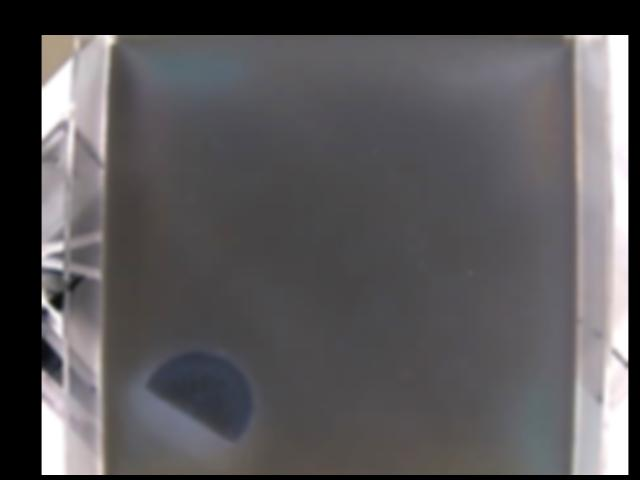Mooli: (142, 349, 254, 440)
